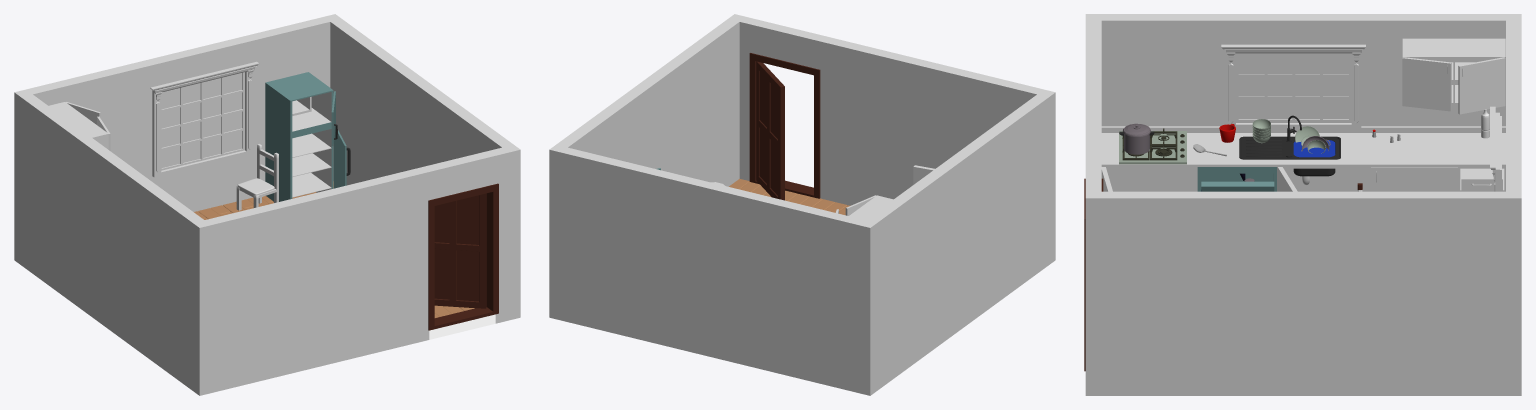
Rendered from kitchen.fbx.
3 renders of one model, left to right at view 1: azimuth 30°, elevation 25°; view 2: azimuth 150°, elevation 25°; view 3: azimuth 270°, elevation 25°, orthographic. The views are drawn at different scales.
Parts seen in each view (by area): view 1: Cube.018, Cube.021, Cube.020, Cube.019, wind_low.001, Cube.001, Cube.026, Cube.027, Cube.028, Cube.017, Cube.003, Cube.025; view 2: Cube.020, Cube.021, Cube.018, Cube.019, Cube.026, Cube.027, Cube.028; view 3: Cube.019, Cube.021, wind_low, Countertop1.001, Cube.018, Cube.020, Hansgrohe_sink_Varnished_Matt_White.001, Cube.022, Cube.024, Cube.010, Cube.005, stove (+9 smaller).
Part boxes in pixels (left/top/right/bottom): Cube.018: left=199, top=147, right=520, bottom=395; Cube.021: left=14, top=92, right=204, bottom=395; Cube.020: left=15, top=14, right=334, bottom=211; Cube.019: left=330, top=14, right=519, bottom=185; wind_low.001: left=150, top=61, right=259, bottom=177; Cube.001: left=265, top=72, right=333, bottom=201; Cube.026: left=434, top=193, right=486, bottom=308; Cube.027: left=428, top=183, right=498, bottom=330; Cube.028: left=194, top=181, right=474, bottom=317; Cube.017: left=236, top=144, right=278, bottom=210; Cube.003: left=334, top=129, right=350, bottom=188; Cube.025: left=70, top=118, right=108, bottom=149; Cube.020: left=549, top=147, right=870, bottom=395; Cube.021: left=865, top=92, right=1055, bottom=395; Cube.018: left=735, top=14, right=1054, bottom=205; Cube.019: left=550, top=14, right=739, bottom=186; Cube.026: left=756, top=61, right=784, bottom=200; Cube.027: left=749, top=53, right=820, bottom=198; Cube.028: left=729, top=178, right=850, bottom=215; Cube.019: left=1085, top=191, right=1521, bottom=395; Cube.021: left=1086, top=14, right=1520, bottom=191; wind_low: left=1221, top=44, right=1365, bottom=128; Countertop1.001: left=1101, top=126, right=1505, bottom=166; Cube.018: left=1085, top=14, right=1101, bottom=197; Cube.020: left=1506, top=14, right=1521, bottom=197; Hansgrohe_sink_Varnished_Matt_White.001: left=1239, top=115, right=1340, bottom=176; Cube.022: left=1402, top=57, right=1451, bottom=111; Cube.024: left=1458, top=57, right=1505, bottom=114; Cube.010: left=1371, top=167, right=1457, bottom=191; Cube.005: left=1106, top=167, right=1193, bottom=191; stove: left=1119, top=128, right=1186, bottom=164.
Bounding box in the file's own units: 600 × 300 × 602.
